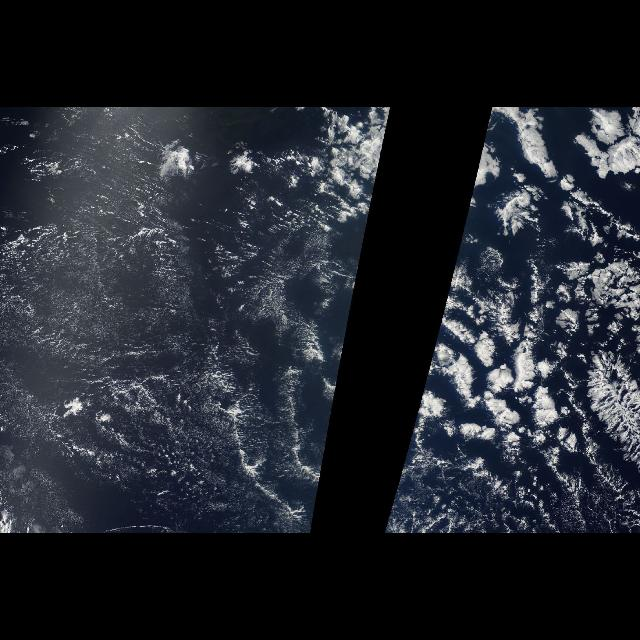Fish: (553, 206, 639, 506)
Flower: (391, 115, 585, 502), (376, 116, 390, 190)
Sugar: (4, 175, 328, 521)
